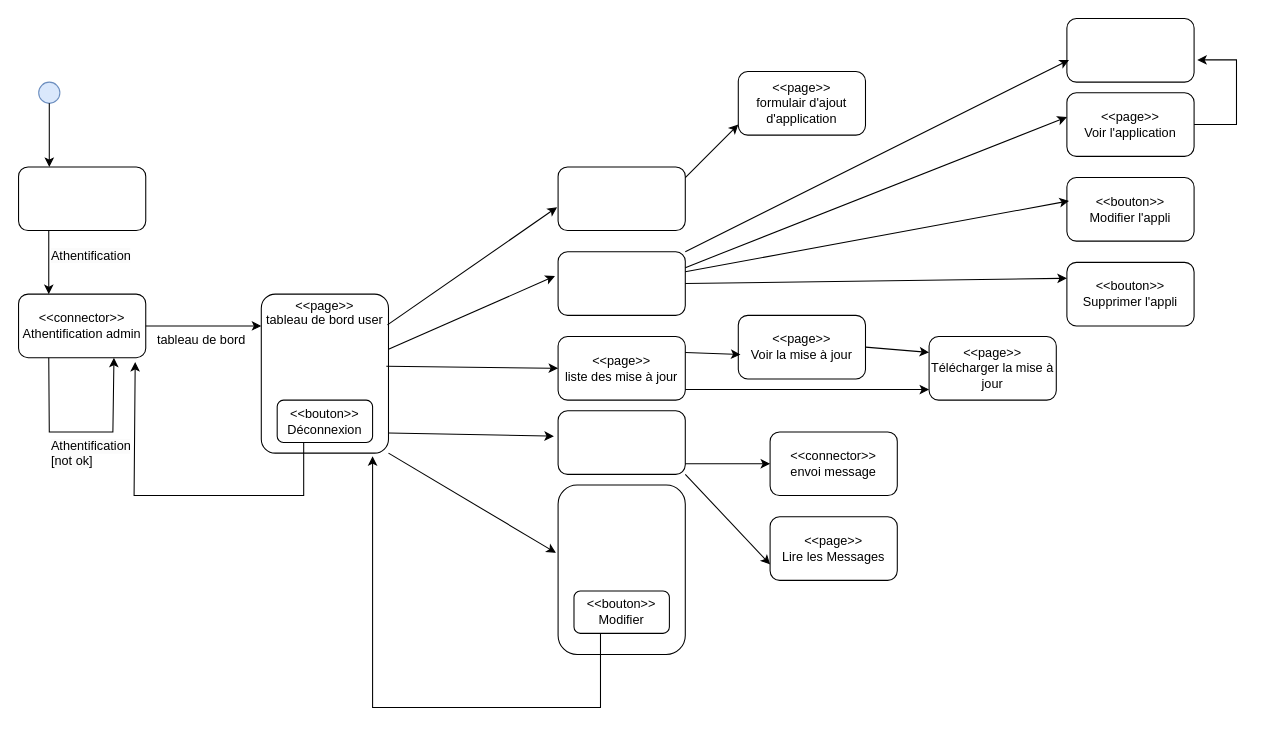
Image size: 1264x735. Some labels were removed from this diagram. The box of each missing label's shape, as (x1, y1, x2, y2) in pixels:
<<bouton>> Télécharger l'appli: (1066, 17, 1194, 82)
<<connector>> ajout d'application: (557, 166, 685, 231)
<<page>> Acceuil: (17, 166, 146, 231)
<<page>> liste d'application: (557, 251, 685, 315)
<<page>> Messages: (557, 410, 685, 474)
<<page>> Modifier profile: (557, 484, 685, 655)
